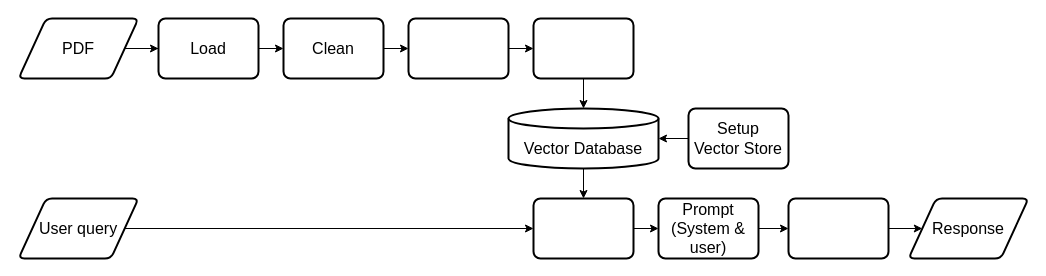
Some shapes in this 1046 by 276 pixel diagram are drawn without their labels. The box of each missing label's shape, as (x1, y1, x2, y2) in pixels:
Add Document: (532, 17, 634, 79)
LLM (Generate answer): (787, 197, 889, 259)
Retriever (Semantic search): (532, 197, 634, 259)
Split (Chunk): (407, 17, 509, 79)
